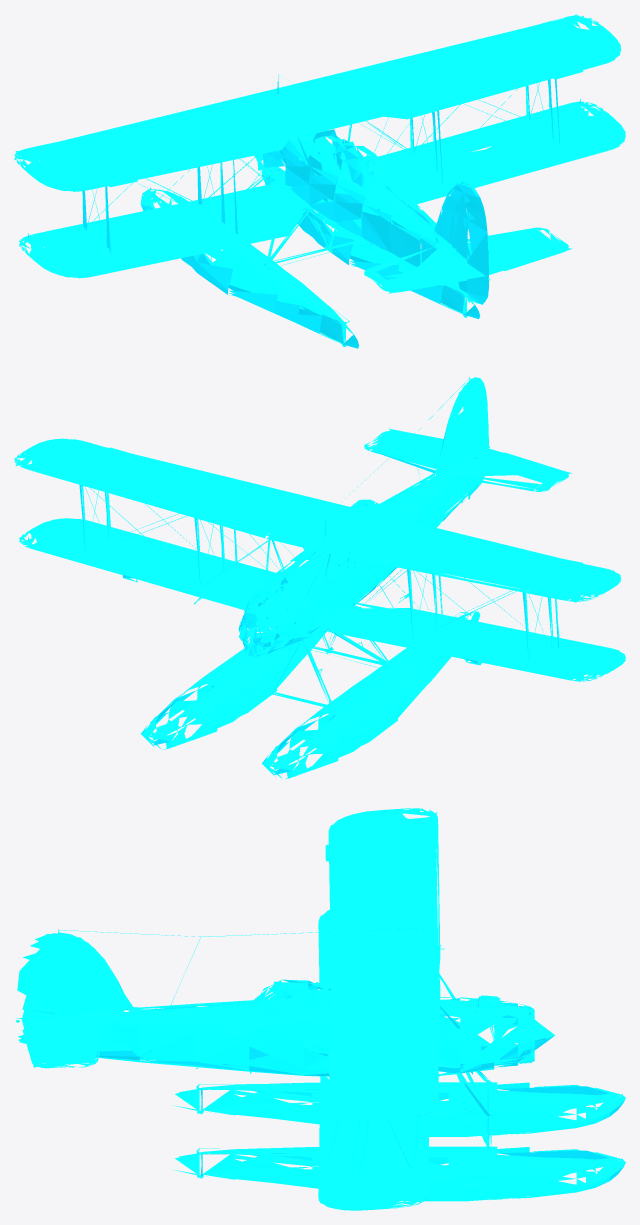
Rendered from PBAS008.glb.
3 renders of one model, top to bottom at view 1: azimuth 30°, elevation 25°; view 2: azimuth 150°, elevation 25°; view 3: azimuth 270°, elevation 25°, orthographic. The views are drawn at different scales.
Parts seen in each view (by area): view 1: misc; view 2: misc; view 3: misc.
Part boxes in pixels (<box>): misc: <box>14,14,625,348</box>; misc: <box>14,377,625,779</box>; misc: <box>16,808,625,1210</box>.
Size of the model in its own units: 0.8127 by 0.2919 by 0.6802.
